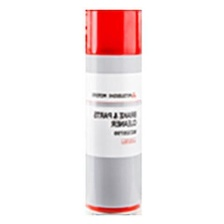aerosol_cans: (82, 7, 145, 215)
